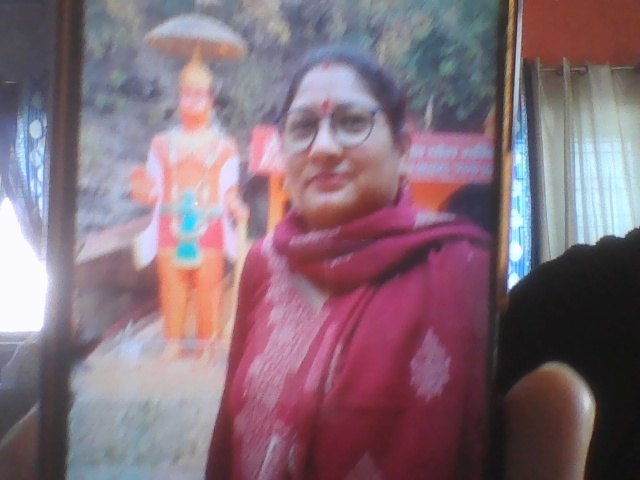fake: (262, 14, 419, 236)
